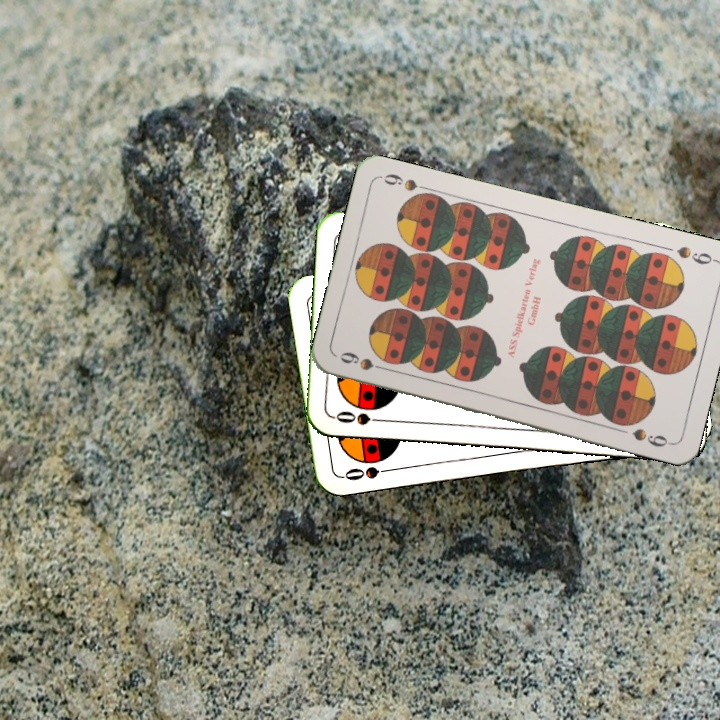S9: (336, 347, 393, 374), (672, 242, 719, 267)
SO: (330, 406, 390, 428), (340, 462, 399, 483)
